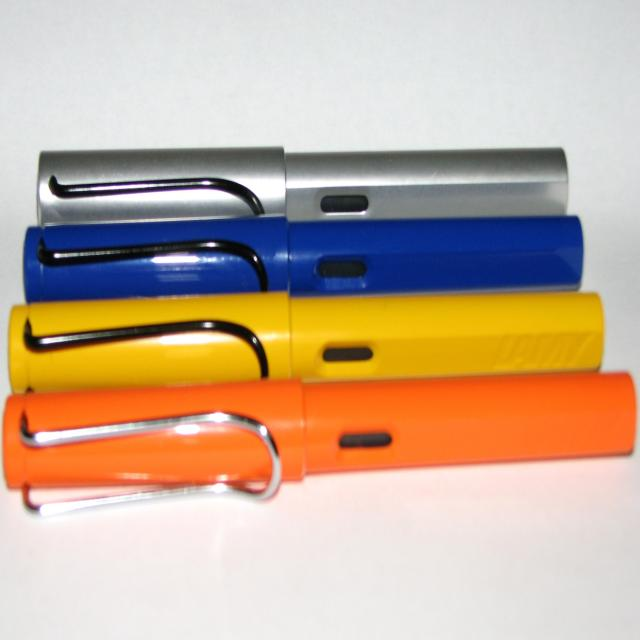Plastic: (1, 144, 639, 522), (38, 148, 572, 221), (288, 218, 584, 295)
